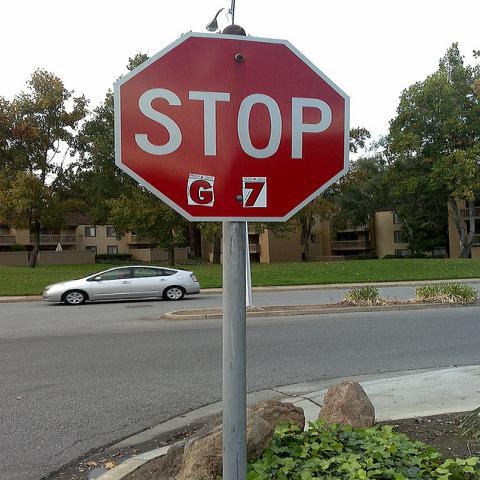car: (42, 264, 200, 303)
